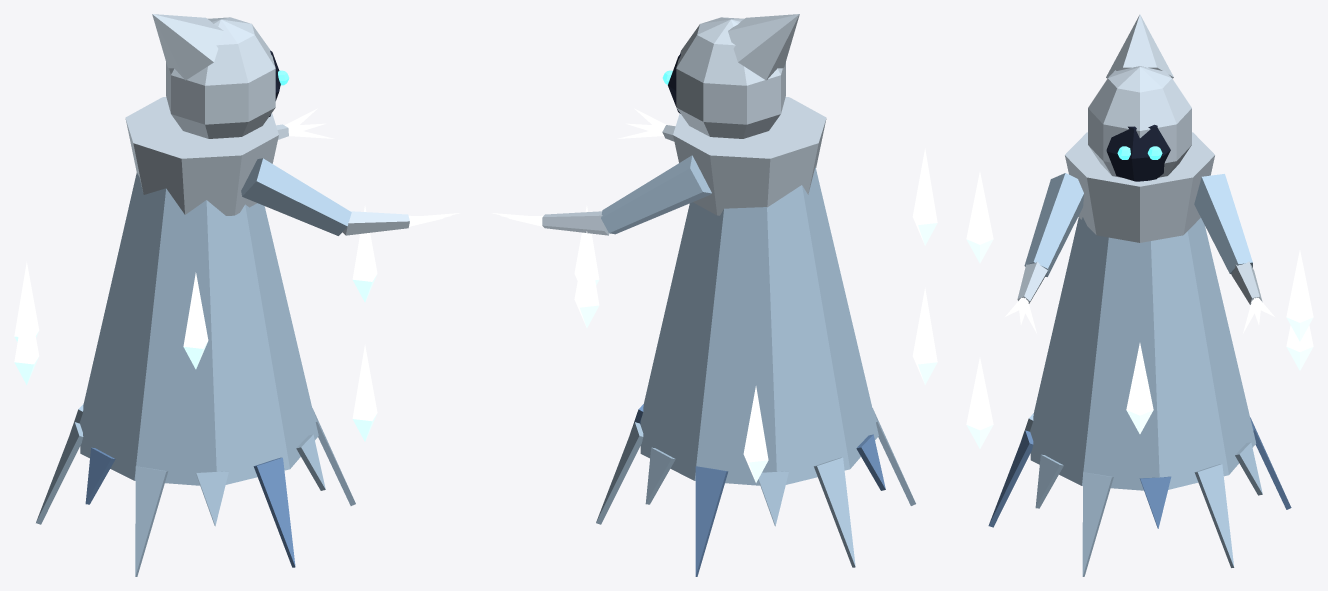
Rendered from wraith.glb.
3 views of the same model, side by side, from view 1: azimuth 30°, elevation 25°; view 2: azimuth 150°, elevation 25°; view 3: azimuth 270°, elevation 25° (orthographic). The views are drawn at different scales.
Parts seen in each view (by area): view 1: body, head, shards, arm_r, arm_l; view 2: body, head, shards, arm_l, arm_r; view 3: body, head, shards, arm_r, arm_l.
Boxes of the visible parts, x1,y1,x2,y2 form: body: (36, 97, 355, 576); head: (152, 14, 289, 138); shards: (14, 205, 377, 441); arm_r: (241, 158, 459, 235); arm_l: (276, 108, 334, 139); body: (596, 97, 915, 576); head: (662, 14, 799, 138); shards: (574, 148, 937, 482); arm_l: (492, 155, 711, 235); arm_r: (617, 108, 675, 141); body: (988, 132, 1291, 576); head: (1088, 14, 1191, 181); shards: (966, 172, 1313, 448); arm_r: (1005, 173, 1083, 333); arm_l: (1194, 174, 1274, 333).
Bounding box in the file's own units: 3 × 3.91 × 2.54.
